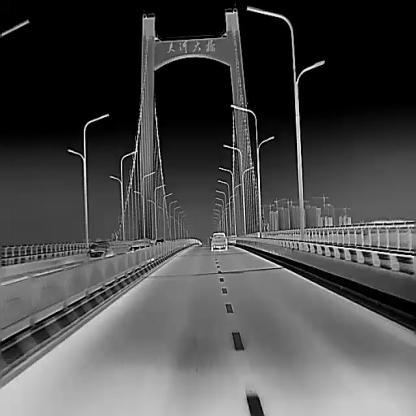car: (86, 241, 113, 259), (210, 230, 227, 250), (129, 238, 150, 251), (155, 237, 165, 245)
